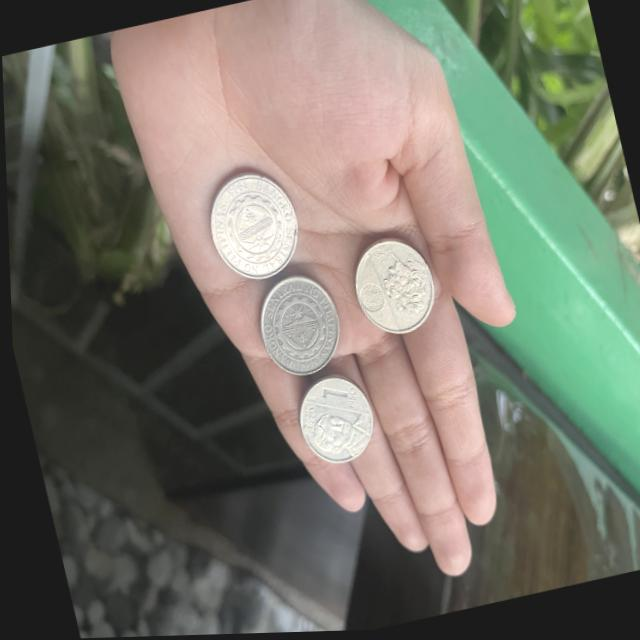1_New_Back: (371, 246, 436, 331)
1_New_Front: (314, 383, 360, 421)
1_Old_Back: (198, 165, 307, 289), (247, 271, 345, 382)
